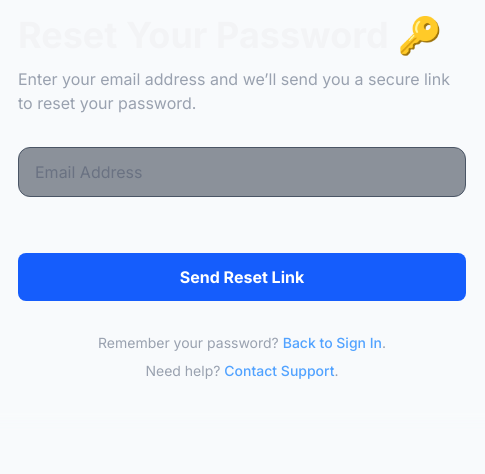
PasswordResetRequestForm › shows error message on failed submit
In the field labelled "Email Address": (242, 172) [18,147,466,197], type "test@example.com"
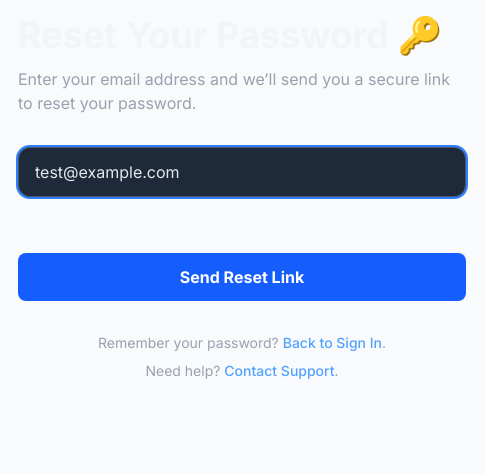
Click the button: (242, 277) [18,253,466,301]
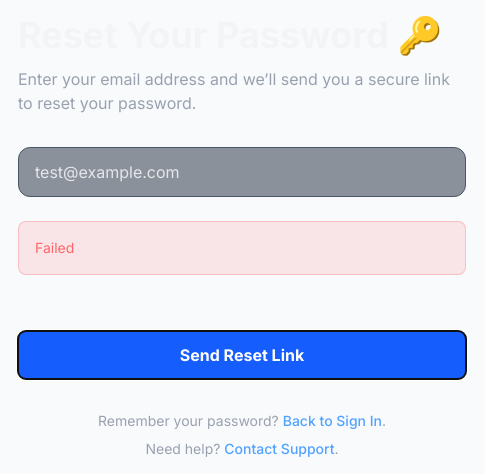
Expected: the text "Failed" is shown, [35,239,74,256]
